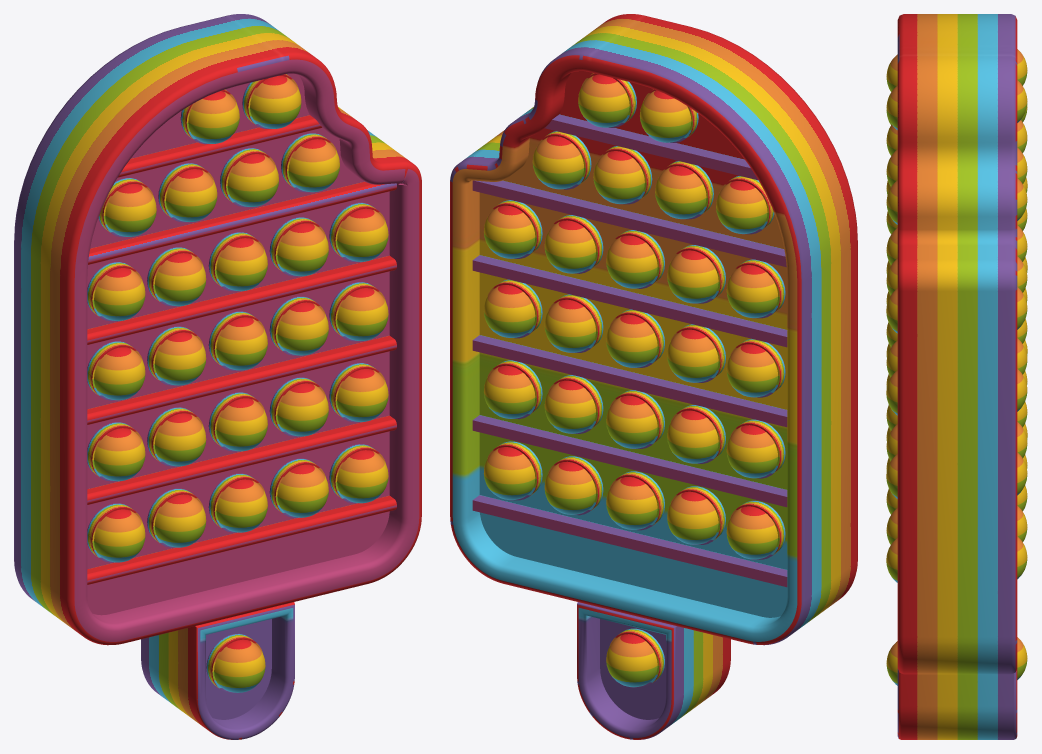
The picture shows the model from 3 angles, left to right: view 1: azimuth 30°, elevation 25°; view 2: azimuth 150°, elevation 25°; view 3: azimuth 270°, elevation 25°; orthographic projection. The views are drawn at different scales.
Visible parts, largest first — view 1: Popit, Sphere.006, Sphere.019, Sphere.004, Sphere.011, Sphere.008, Sphere.003, Sphere.013, Sphere.014, Sphere.009, Sphere.022, Sphere.017 (+40 smaller); view 2: Popit, Sphere.053, Sphere.030, Sphere.044, Sphere.045, Sphere.040, Sphere.029, Sphere.048, Sphere.049, Sphere.032, Sphere.031, Sphere.036 (+16 smaller); view 3: Popit, Sphere.005, Sphere.010, Sphere.015, Sphere.020, Sphere.024, Sphere.027, Sphere.054, Sphere.042, Sphere.025, Sphere.032, Sphere.037 (+19 smaller).
Boxes of the visible parts, left/top/right/bottom form: Popit: left=14, top=14, right=421, bottom=739; Sphere.006: left=94, top=509, right=145, bottom=562; Sphere.019: left=277, top=223, right=328, bottom=276; Sphere.004: left=277, top=383, right=328, bottom=436; Sphere.011: left=94, top=347, right=145, bottom=400; Sphere.008: left=216, top=479, right=267, bottom=532; Sphere.003: left=216, top=398, right=267, bottom=451; Sphere.013: left=216, top=317, right=267, bottom=370; Sphere.014: left=277, top=302, right=328, bottom=355; Sphere.009: left=277, top=464, right=328, bottom=517; Sphere.022: left=166, top=169, right=217, bottom=222; Sphere.017: left=154, top=253, right=206, bottom=306; Popit: left=450, top=14, right=857, bottom=739; Sphere.053: left=606, top=634, right=657, bottom=687; Sphere.030: left=667, top=410, right=718, bottom=463; Sphere.044: left=606, top=235, right=657, bottom=288; Sphere.045: left=667, top=250, right=718, bottom=303; Sphere.040: left=667, top=329, right=718, bottom=382; Sphere.029: left=606, top=395, right=657, bottom=448; Sphere.048: left=593, top=151, right=644, bottom=204; Sphere.049: left=655, top=166, right=706, bottom=219; Sphere.032: left=483, top=447, right=535, bottom=500; Sphere.031: left=726, top=425, right=777, bottom=478; Sphere.036: left=726, top=506, right=777, bottom=559; Popit: left=897, top=14, right=1017, bottom=739; Sphere.005: left=886, top=454, right=897, bottom=498; Sphere.010: left=886, top=538, right=897, bottom=582; Sphere.015: left=886, top=370, right=897, bottom=415; Sphere.020: left=886, top=288, right=897, bottom=333; Sphere.024: left=886, top=180, right=897, bottom=224; Sphere.027: left=886, top=85, right=897, bottom=129; Sphere.054: left=886, top=641, right=897, bottom=685; Sphere.042: left=1017, top=287, right=1027, bottom=329; Sphere.025: left=1017, top=452, right=1027, bottom=495; Sphere.032: left=1017, top=536, right=1027, bottom=579; Sphere.037: left=1017, top=369, right=1027, bottom=411.
Size of the model in its own units: 14.16 by 25.75 by 4.74.
1 material, 1 textured.
